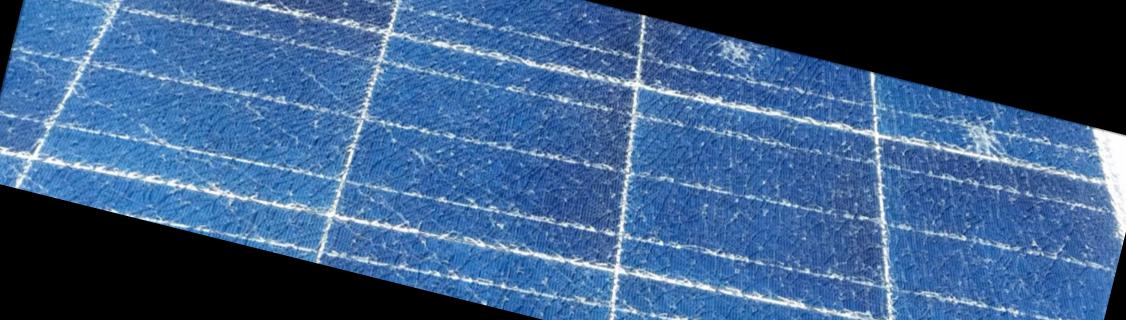Crack: (0, 0, 1095, 319), (936, 94, 1033, 185), (693, 32, 778, 84)
